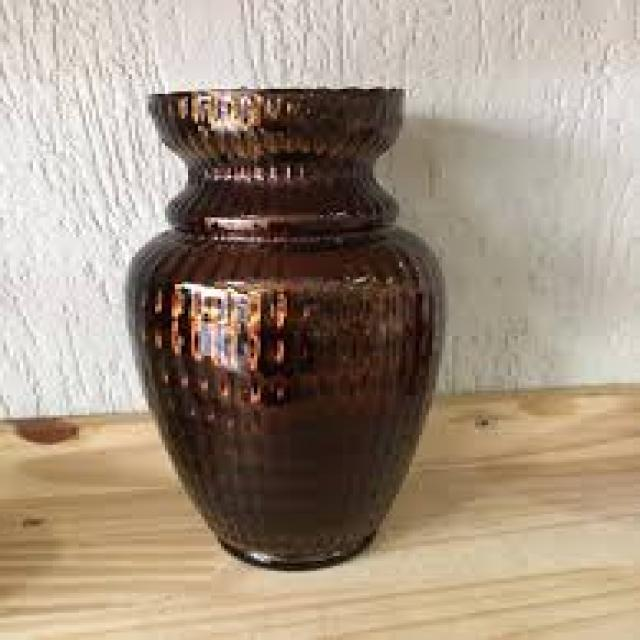glass: (125, 84, 442, 568)
